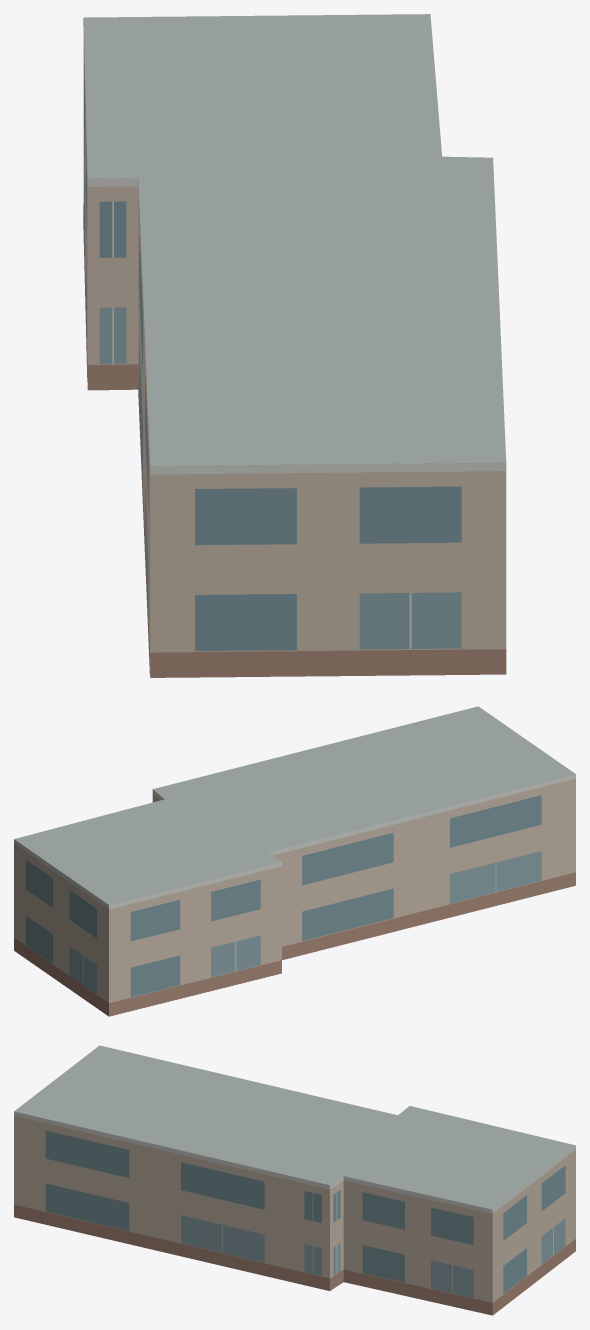
File: survey-upis-32660953.glb
3 views of the same model, one above another, from view 1: azimuth 30°, elevation 25°; view 2: azimuth 150°, elevation 25°; view 3: azimuth 270°, elevation 25° (orthographic). The views are drawn at different scales.
Parts seen in each view (by area): view 1: survey-upis-32660953.tmp; view 2: survey-upis-32660953.tmp; view 3: survey-upis-32660953.tmp.
Part boxes in pixels (x1,y1,x2,y2): survey-upis-32660953.tmp: [83, 14, 506, 677]; survey-upis-32660953.tmp: [14, 706, 575, 1016]; survey-upis-32660953.tmp: [14, 1045, 575, 1315].
Bounding box in the file's own units: 20.31 × 6.1 × 29.34.
